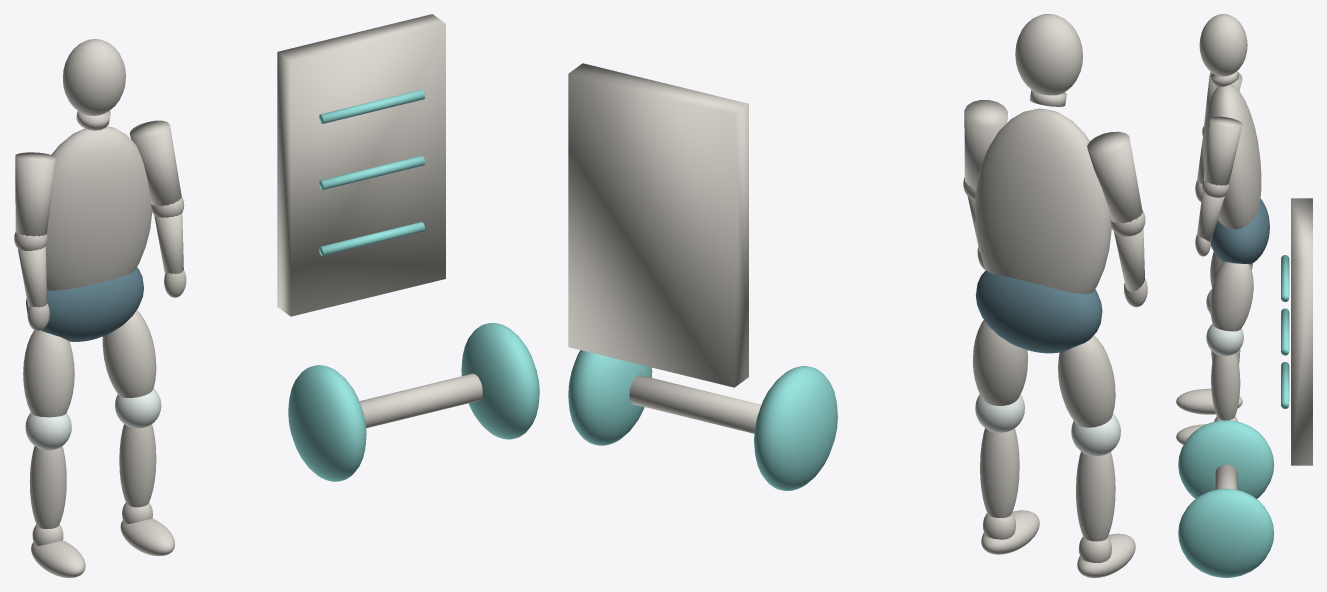
File: metabolism-care.glb
3 views of the same model, side by side, from view 1: azimuth 30°, elevation 25°; view 2: azimuth 150°, elevation 25°; view 3: azimuth 270°, elevation 25° (orthographic). The views are drawn at different scales.
Visible parts, largest first — view 1: static #eee5d3, static #49bdb4, static #203c48, static #c7ddd2; view 2: static #eee5d3, static #49bdb4, static #203c48, static #c7ddd2; view 3: static #eee5d3, static #49bdb4, static #203c48, static #c7ddd2.
Boxes of the visible parts, box(x1,y1,x2,y2) form: static #eee5d3: box(14, 14, 482, 577); static #49bdb4: box(288, 89, 539, 481); static #203c48: box(26, 267, 143, 341); static #c7ddd2: box(25, 388, 161, 450); static #eee5d3: box(568, 14, 1147, 577); static #49bdb4: box(568, 350, 837, 490); static #203c48: box(975, 270, 1102, 353); static #c7ddd2: box(975, 394, 1120, 455); static #eee5d3: box(1176, 14, 1312, 489); static #49bdb4: box(1178, 255, 1289, 577); static #203c48: box(1211, 198, 1269, 264); static #c7ddd2: box(1206, 289, 1243, 355).
Size of the model in its own units: 0.2861 by 0.2713 by 0.0813.
